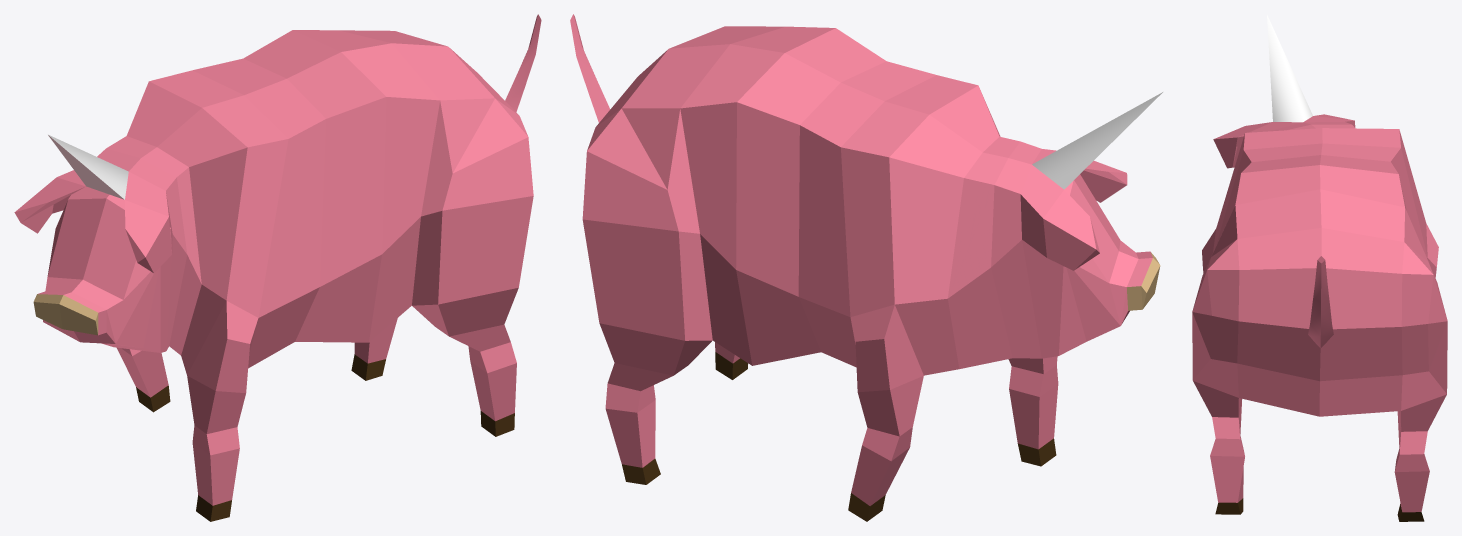
The model's file is pigRunning6.obj.
The picture shows the model from 3 angles, left to right: view 1: azimuth 30°, elevation 25°; view 2: azimuth 150°, elevation 25°; view 3: azimuth 270°, elevation 25°; orthographic projection. The views are drawn at different scales.
Visible parts, largest first — view 1: Pig_Cylinder.002_Pig_Cylinder.003; view 2: Pig_Cylinder.002_Pig_Cylinder.003; view 3: Pig_Cylinder.002_Pig_Cylinder.003.
Boxes of the visible parts, x1,y1,x2,y2 form: Pig_Cylinder.002_Pig_Cylinder.003: (14,14,541,521); Pig_Cylinder.002_Pig_Cylinder.003: (570,14,1162,521); Pig_Cylinder.002_Pig_Cylinder.003: (1192,15,1447,521).
Bounding box in the file's own units: 22.22 × 16.2 × 11.11.
